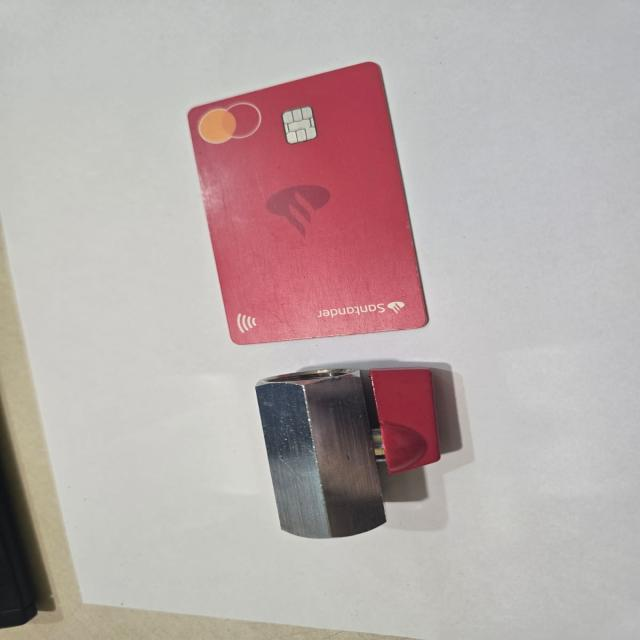cartao: (170, 62, 442, 344)
rosca_interna: (254, 368, 451, 540)
